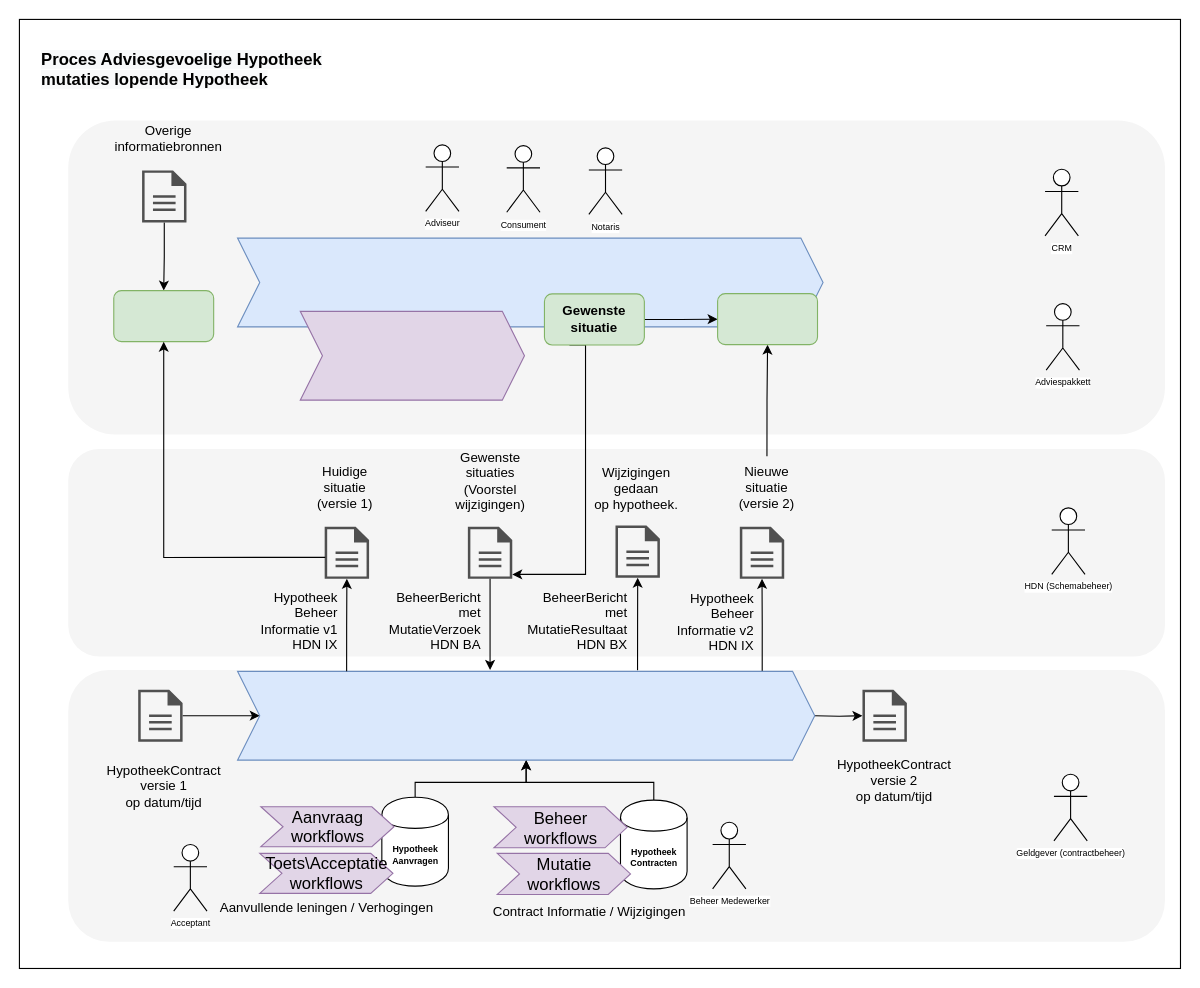
This 1200x988 diagram has some shape labels left out. Each missing label, with the box of its shape:
Advies (bedrijfs-)proces Adviseur: (236, 237, 823, 327)
Beheerproces Hypotheken (GeldGever) (contractbeheer): (236, 670, 815, 760)
Financieel Advies Workflow (schrijven advies /maken wijzigingsvoorstel): (299, 310, 524, 400)
Nieuwe Situatie: (717, 292, 818, 345)
Oude/huidige situatie: (113, 289, 214, 342)
